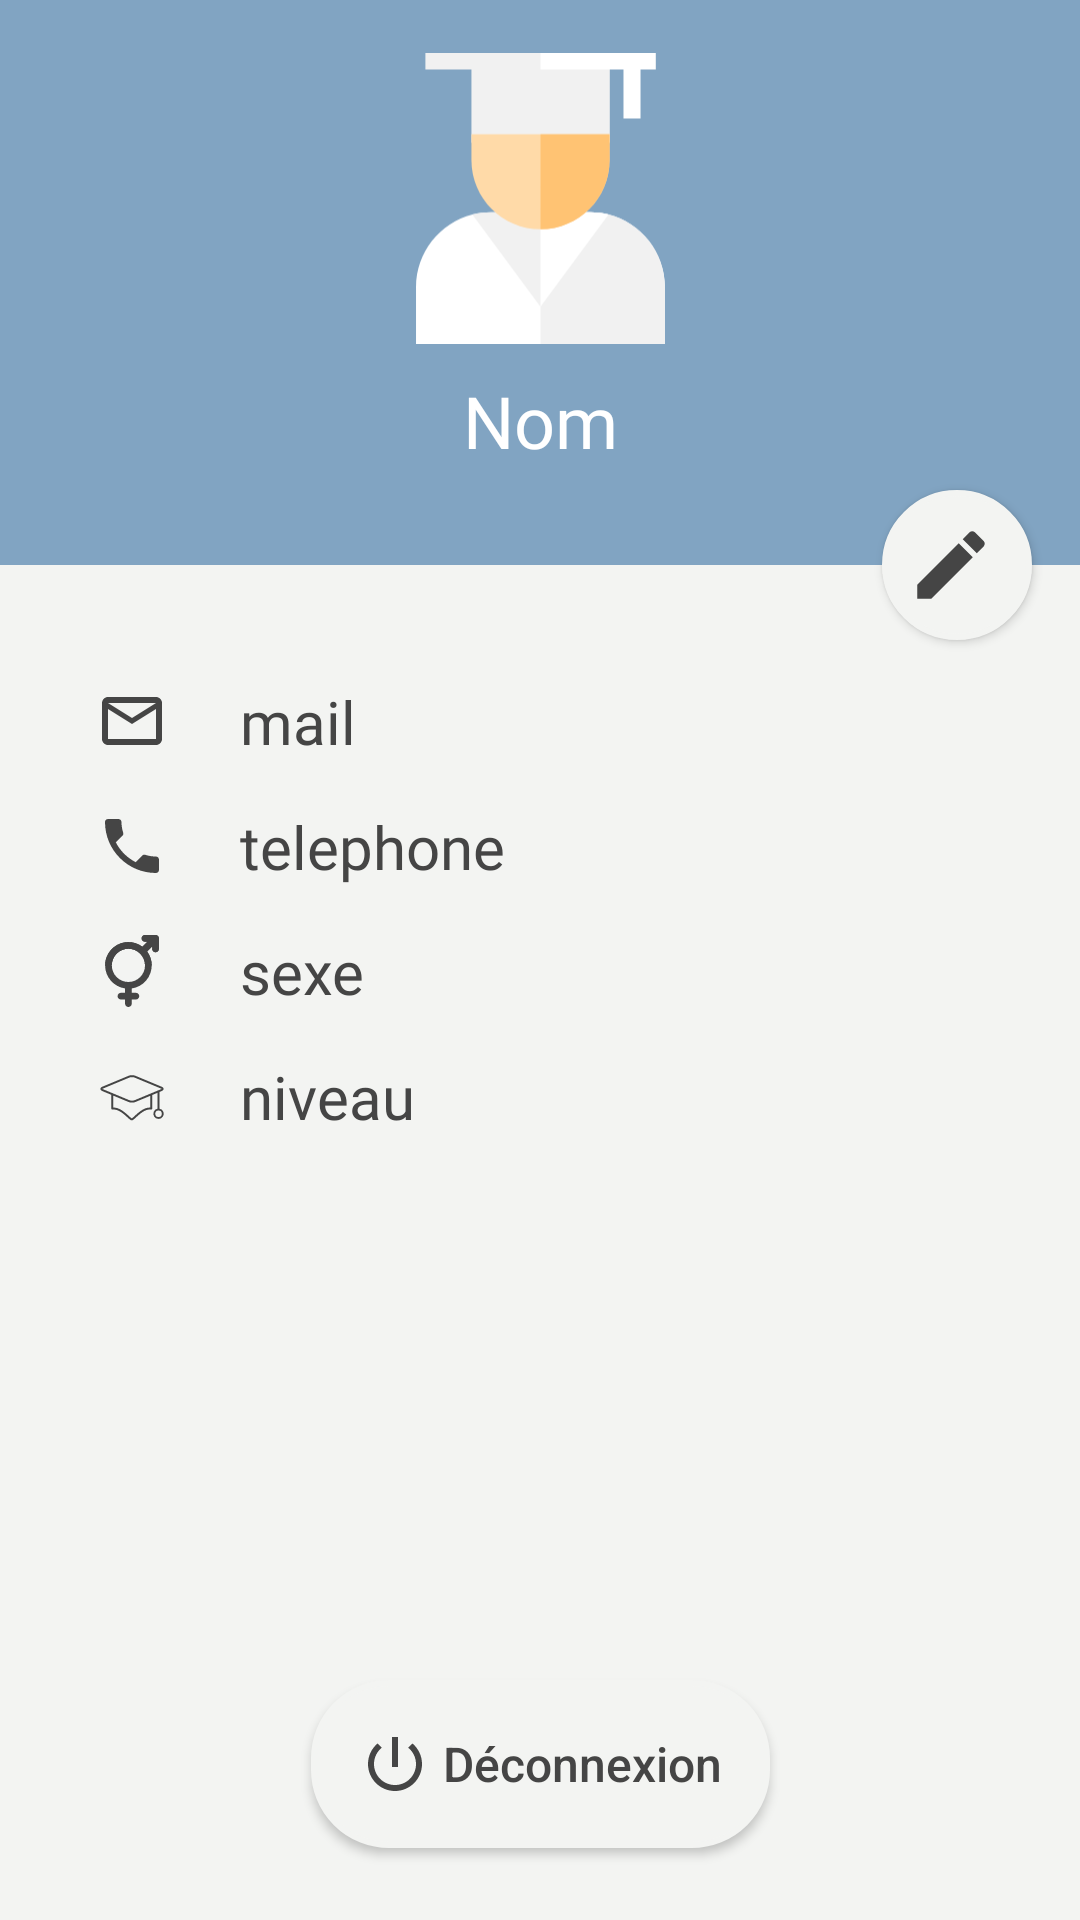

Screen size 1080 x 1920. Icon name, then its center in pixels as point (x, y):
graduation hat: point (132, 1098)
intersex: point (132, 971)
local phone: point (132, 846)
profil user: point (540, 198)
